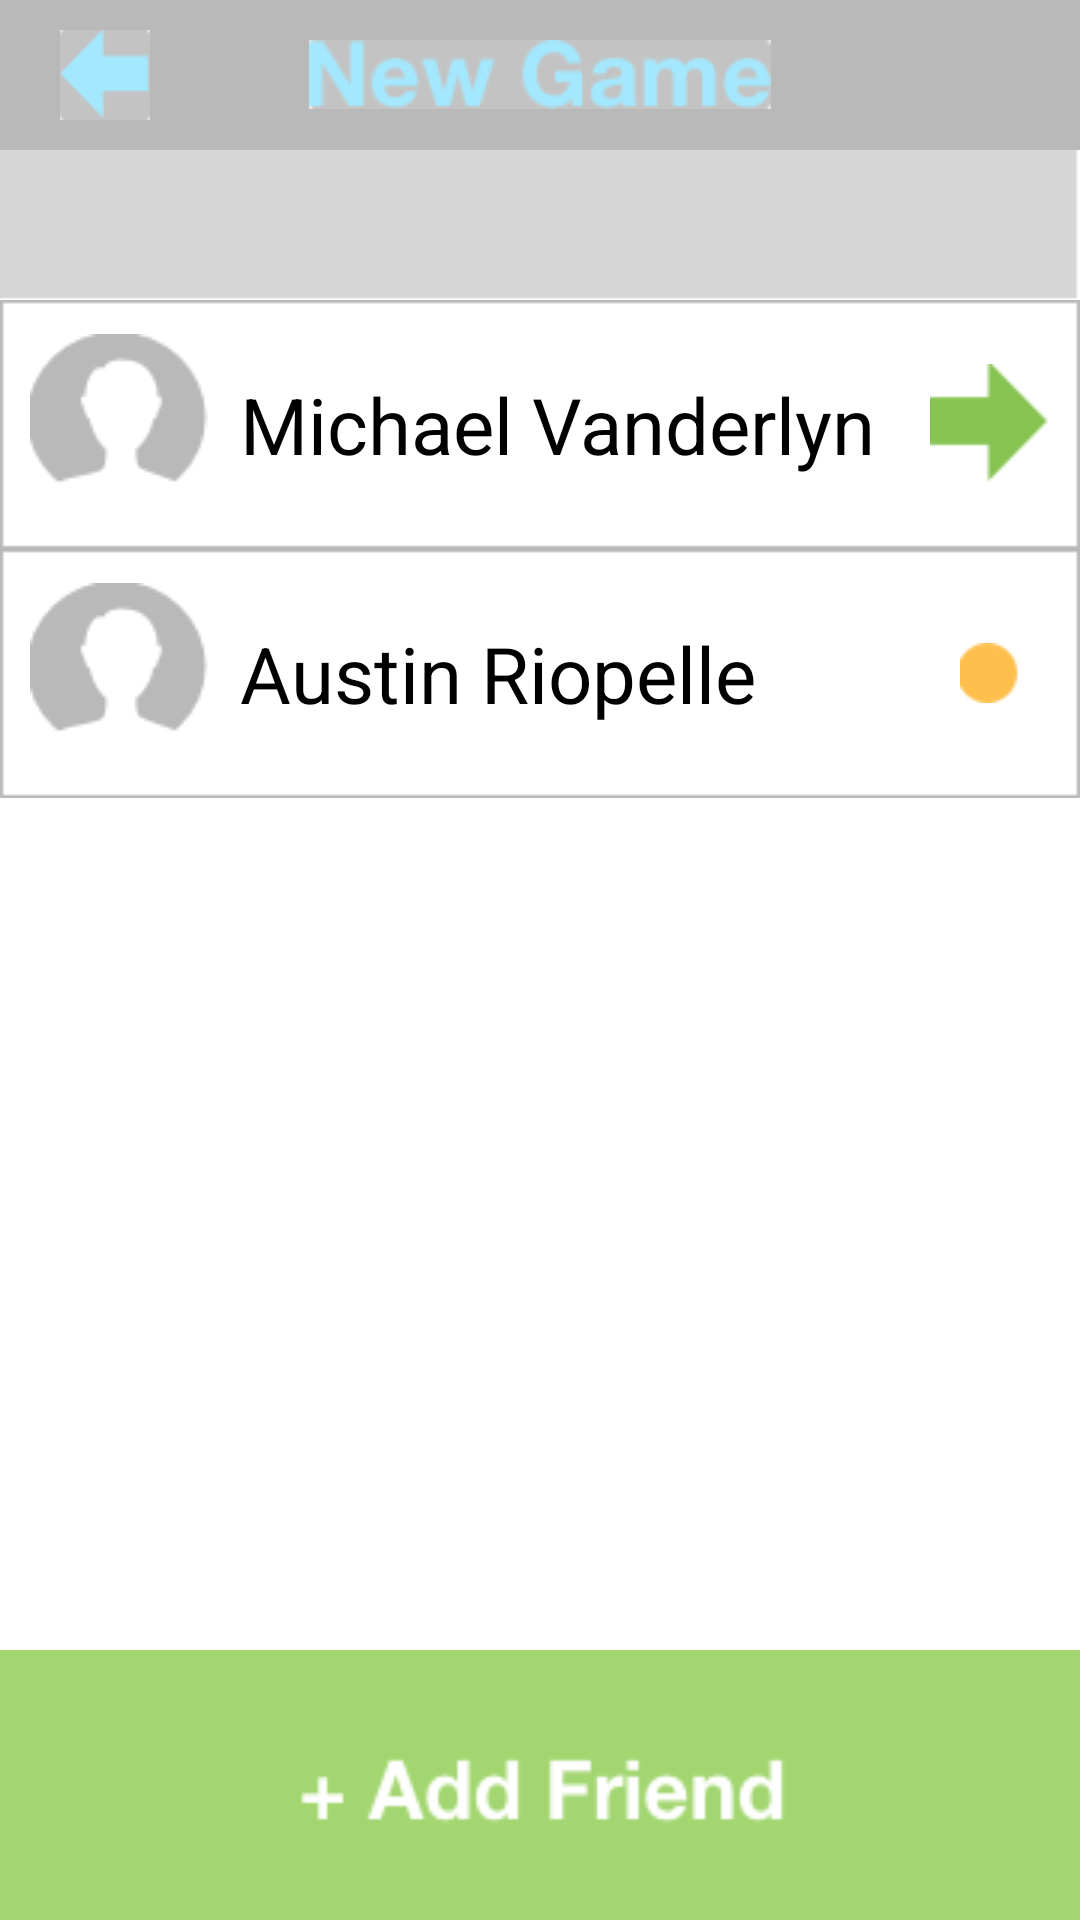

Screen size 1080 x 1920. Icon name, then its box in pixels as [x1, y1, x2, y2]:
filler friend pic: [30, 334, 206, 482], [30, 583, 206, 731]
